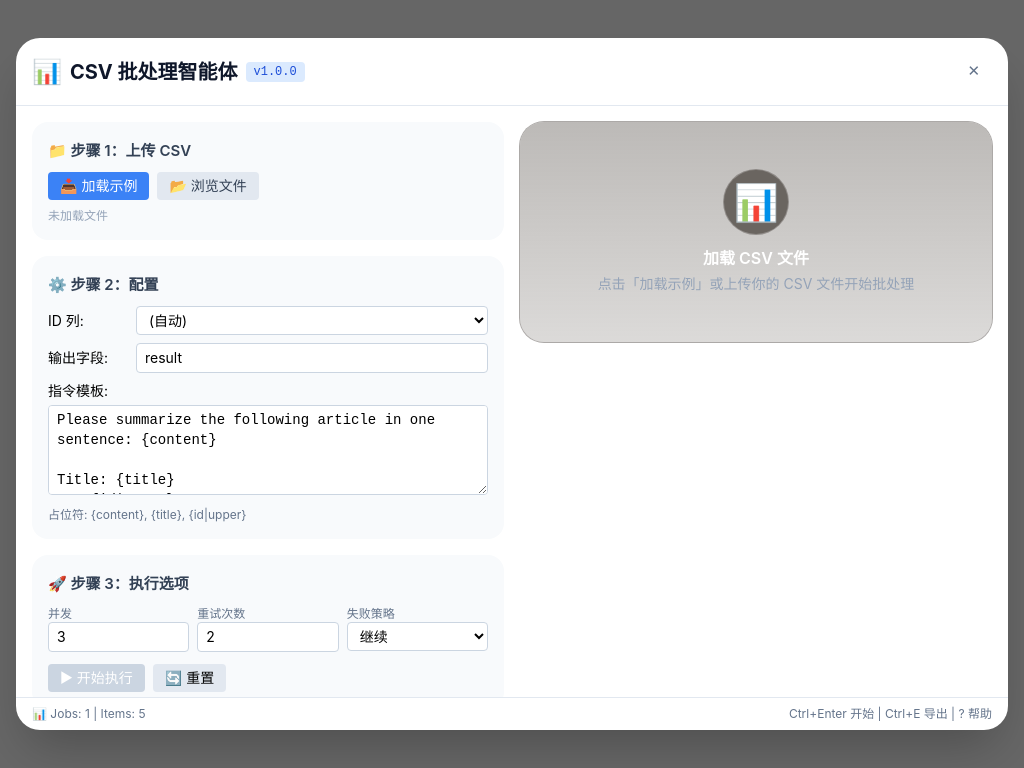
CsvBatchPanel › Ctrl+Enter 启动任务
Click the button with test id "load-sample-btn".
click(99, 186)  # box [48,172,149,200]
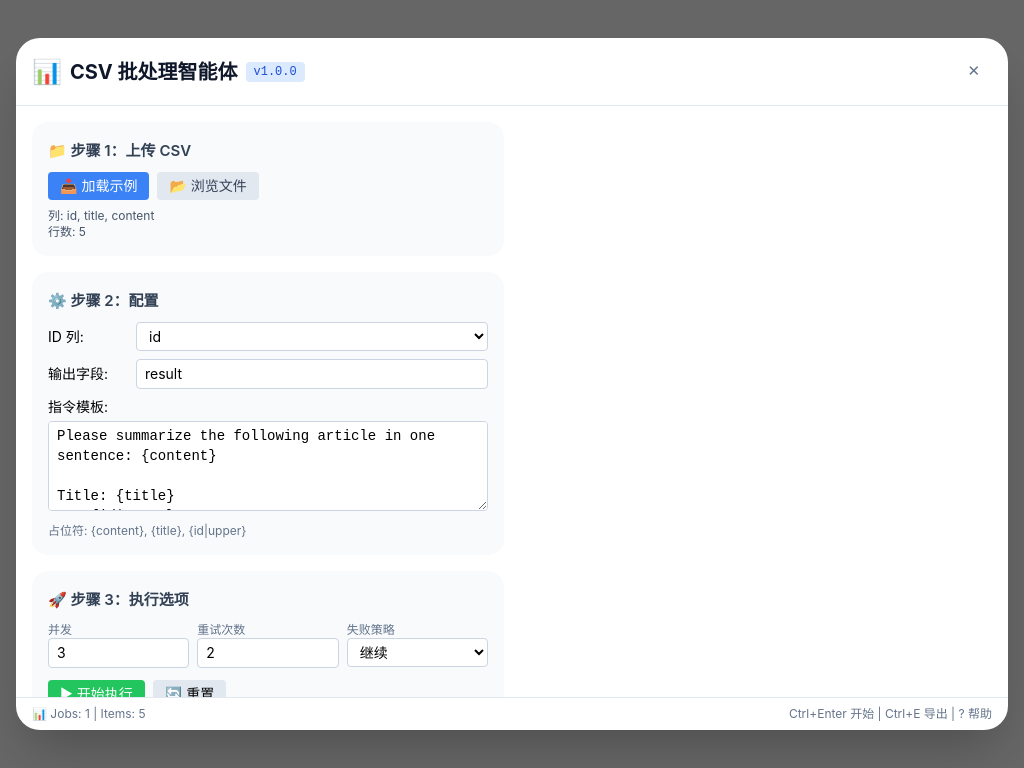
Expected: the text "行数: 5" is shown, [48,224,86,239]
Press Enter
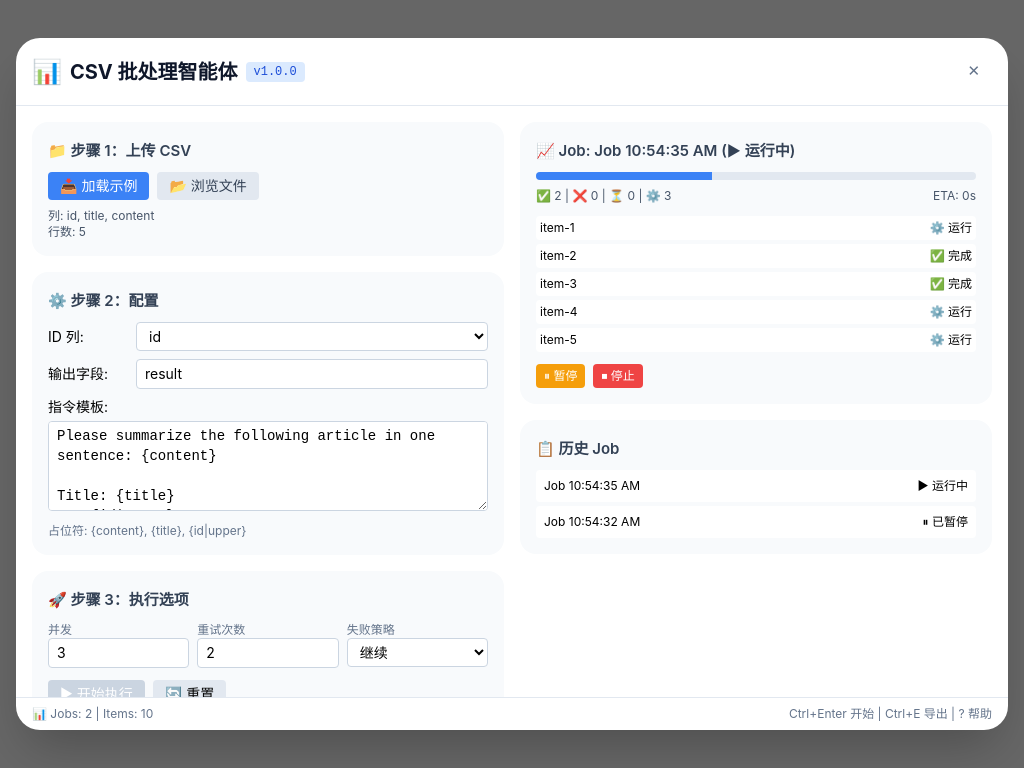
Expected: the element with test id "progress-bar" is shown, [536,172,712,180]
